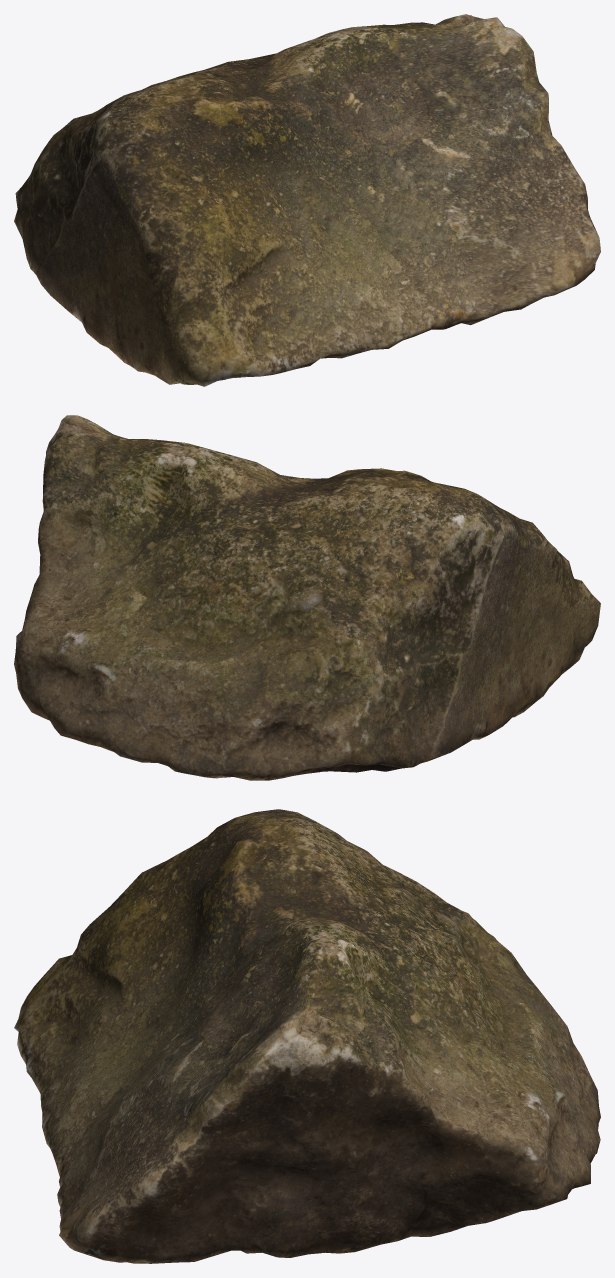
Rendered from Roccia1.fbx.
3 views of the same model, one above another, from view 1: azimuth 30°, elevation 25°; view 2: azimuth 150°, elevation 25°; view 3: azimuth 270°, elevation 25° (orthographic). The views are drawn at different scales.
Visible parts, largest first — view 1: moss rock 04; view 2: moss rock 04; view 3: moss rock 04.
Part boxes in pixels (<box>): moss rock 04: <box>14,14,600,386</box>; moss rock 04: <box>14,415,600,780</box>; moss rock 04: <box>14,809,600,1263</box>.
Bounding box in the file's own units: 111 × 57.97 × 110.
